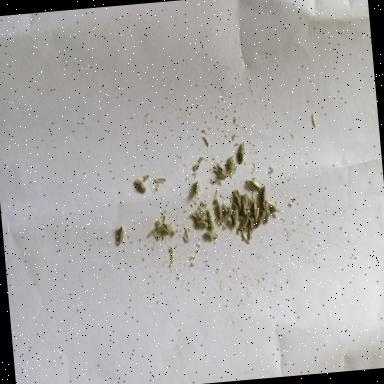pbw: (222, 202, 234, 230), (212, 160, 228, 180), (224, 154, 236, 176), (240, 210, 252, 232), (266, 198, 282, 214), (240, 192, 250, 216), (206, 207, 216, 231), (190, 208, 206, 222), (247, 212, 255, 239), (256, 210, 268, 228), (246, 178, 262, 190), (234, 188, 242, 211), (160, 223, 174, 236), (238, 142, 246, 163), (253, 199, 260, 223), (135, 178, 146, 192), (216, 201, 224, 220), (232, 207, 240, 226), (117, 226, 125, 244), (206, 230, 219, 241), (196, 219, 209, 229), (264, 201, 270, 222), (261, 185, 268, 203), (248, 197, 255, 209)
